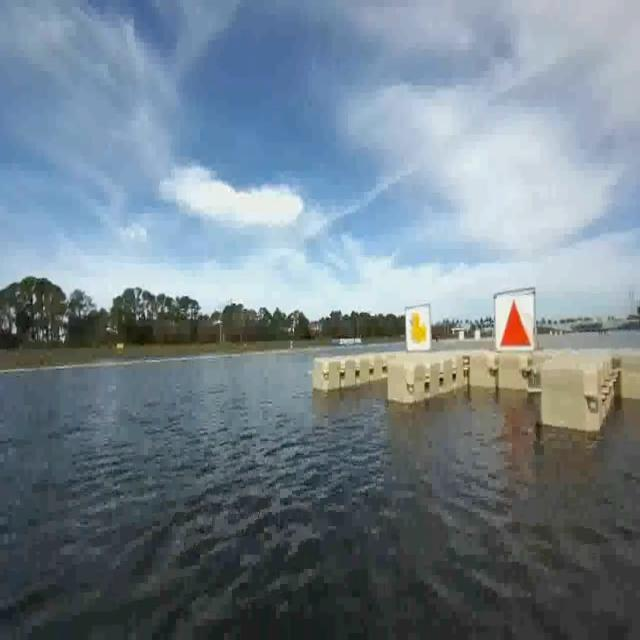red-dot: (494, 292, 534, 357)
yellow-duck: (411, 309, 428, 342)
